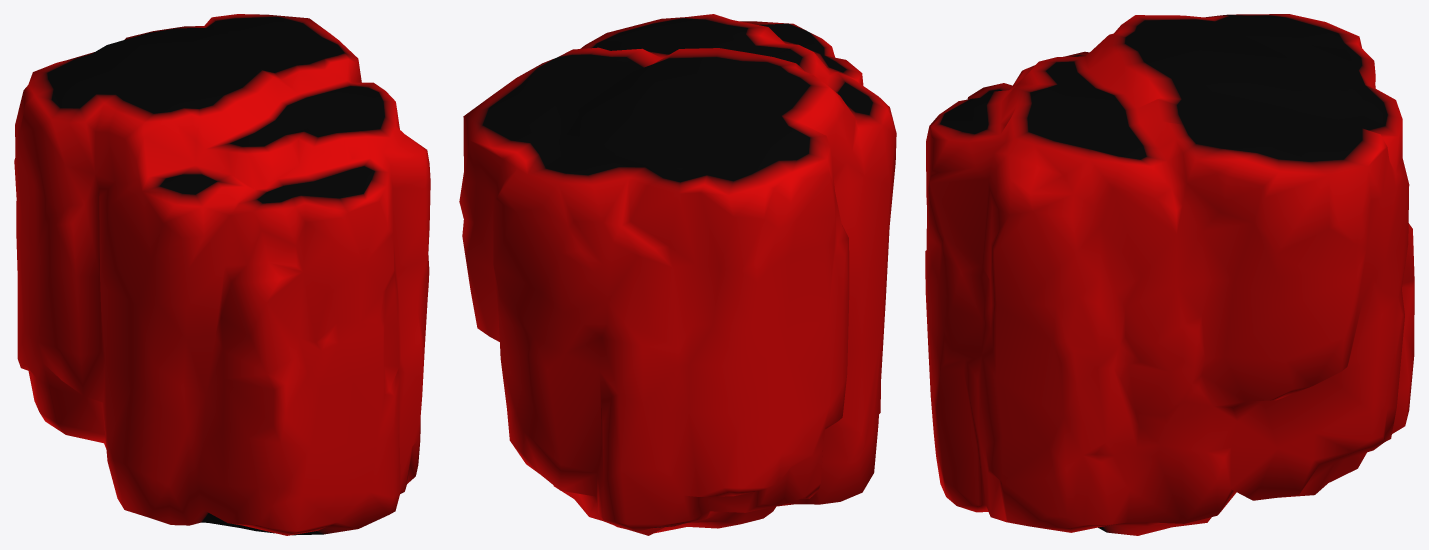
File: SM_Cliff_Small_01.fbx
3 views of the same model, side by side, from view 1: azimuth 30°, elevation 25°; view 2: azimuth 150°, elevation 25°; view 3: azimuth 270°, elevation 25° (orthographic). The views are drawn at different scales.
Visible parts, largest first — view 1: SM_Cliff_Small_01_LOD0; view 2: SM_Cliff_Small_01_LOD0; view 3: SM_Cliff_Small_01_LOD0.
Part boxes in pixels (bbox=[...]): SM_Cliff_Small_01_LOD0: bbox=[14, 14, 430, 535]; SM_Cliff_Small_01_LOD0: bbox=[459, 14, 896, 535]; SM_Cliff_Small_01_LOD0: bbox=[925, 14, 1414, 535].
Bounding box in the file's own units: 675 × 842 × 853.
